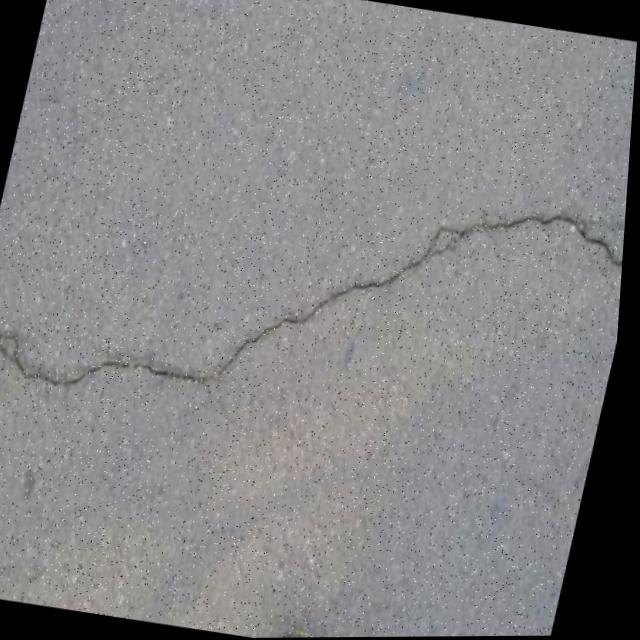Crack: (0, 119, 634, 484)
